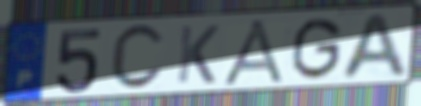5: (52, 26, 104, 95)
A: (336, 11, 411, 82), (219, 18, 290, 87)
C: (108, 22, 167, 93)
G: (288, 15, 345, 82)
K: (174, 23, 222, 85)
